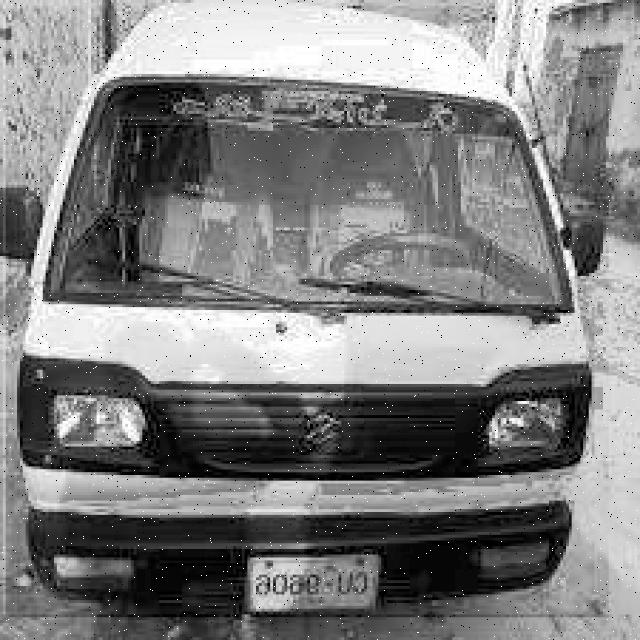LCV: (3, 6, 609, 620)
